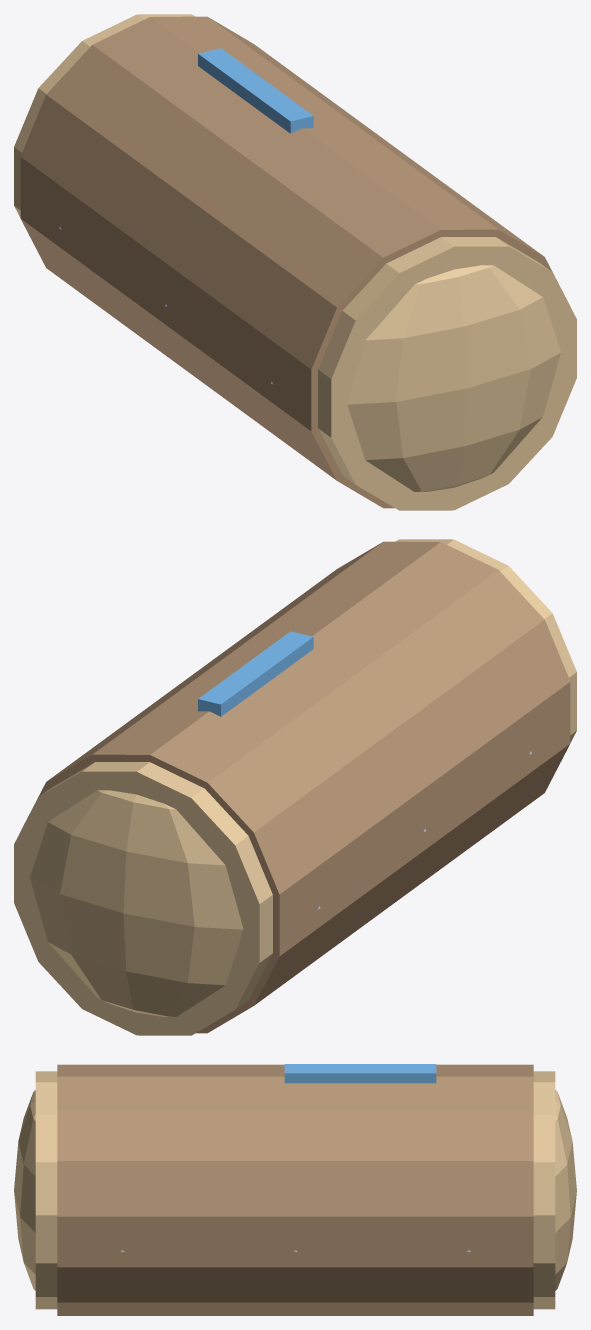
File: the_log.glb
The picture shows the model from 3 angles, top to bottom: view 1: azimuth 30°, elevation 25°; view 2: azimuth 150°, elevation 25°; view 3: azimuth 270°, elevation 25°; orthographic projection. The views are drawn at different scales.
Visible parts, largest first — view 1: the_log; view 2: the_log; view 3: the_log.
Part boxes in pixels (box(x1,y1,x2,y2)): the_log: box(14, 14, 576, 510); the_log: box(14, 539, 576, 1035); the_log: box(14, 1064, 576, 1315).
Bounding box in the file's own units: 1.14 × 1.2 × 2.6.
